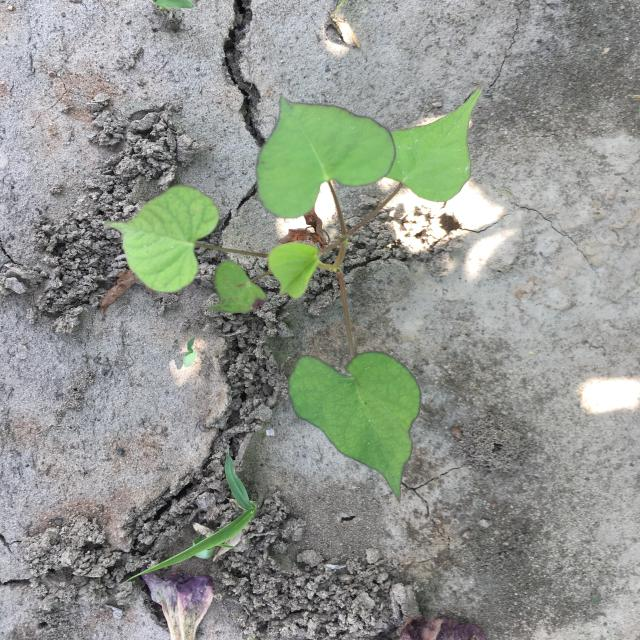MorningGlory: (100, 85, 482, 502)
